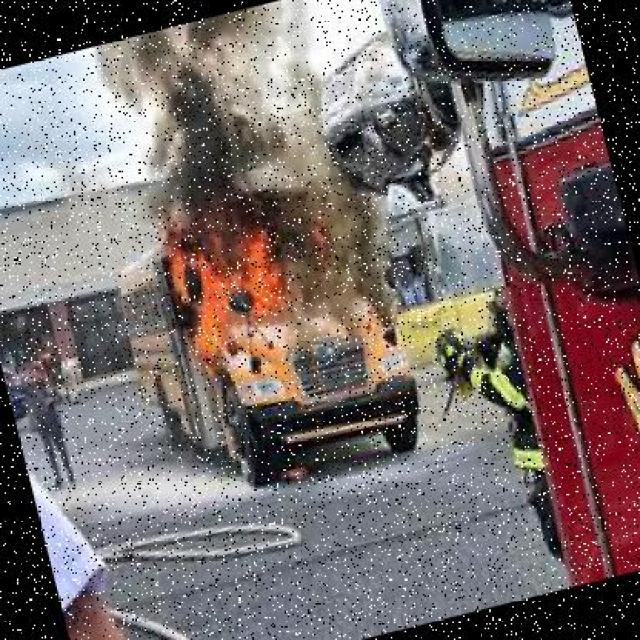fire: (151, 182, 334, 383)
